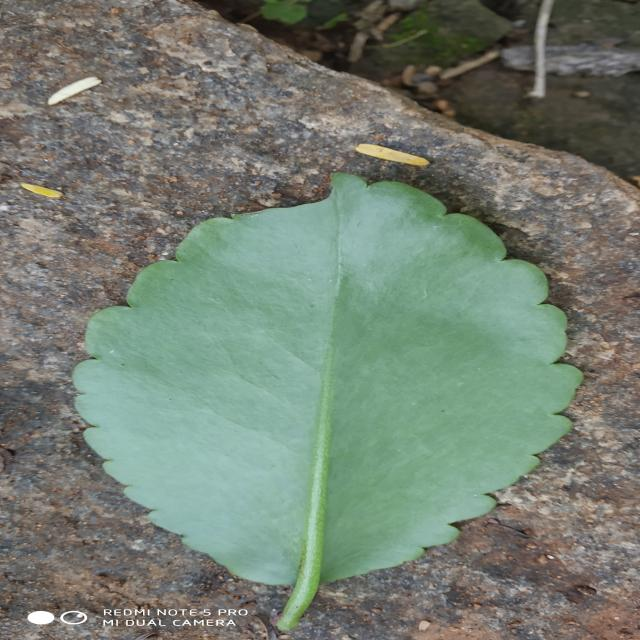spinach: (72, 174, 582, 630)
